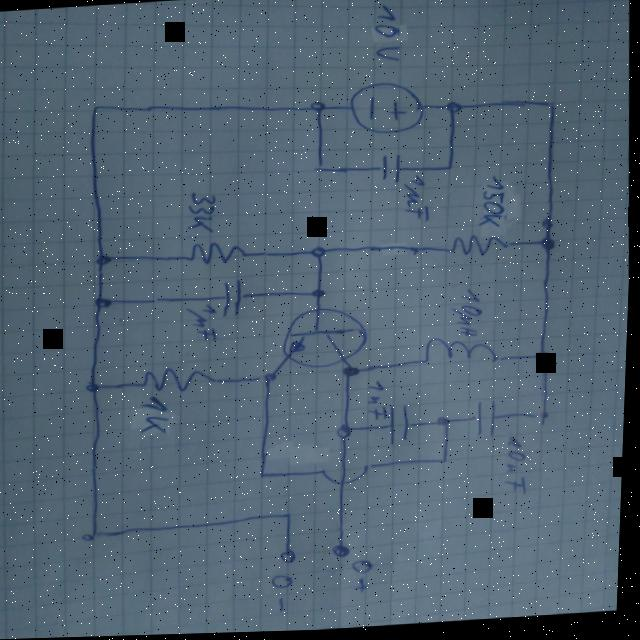capacitor: (474, 400, 501, 443), (222, 277, 247, 321), (390, 405, 413, 450), (379, 153, 403, 189)
crossover: (320, 463, 377, 489)
inductor: (419, 335, 504, 370)
junction: (255, 467, 277, 487), (309, 243, 330, 263), (86, 527, 108, 546), (532, 351, 555, 369), (537, 238, 559, 256), (436, 414, 457, 432), (278, 508, 299, 526), (336, 424, 358, 441), (308, 102, 330, 118), (341, 366, 364, 381), (310, 286, 329, 303), (263, 372, 283, 388), (311, 162, 331, 178), (92, 295, 112, 311), (442, 102, 463, 117), (93, 253, 114, 268), (436, 455, 453, 471), (86, 381, 105, 395), (541, 101, 558, 116), (88, 101, 105, 116), (537, 411, 553, 425), (440, 164, 457, 176)
resistor: (135, 364, 222, 398), (445, 234, 514, 263), (185, 240, 251, 268)
source: (345, 80, 427, 140)
terminal: (330, 545, 356, 563), (279, 551, 303, 567)
text: (366, 5, 403, 66), (472, 179, 510, 231), (451, 288, 487, 341), (398, 175, 432, 226), (503, 437, 531, 498), (183, 192, 220, 238), (139, 394, 174, 439), (186, 302, 224, 343), (272, 572, 302, 615), (351, 558, 381, 598), (366, 381, 392, 425)
transistor: (277, 305, 374, 374)
